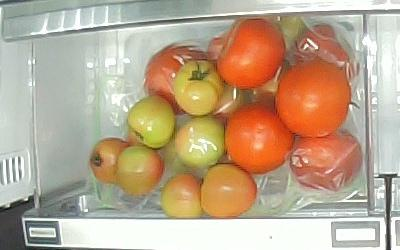tangerine_vinyl: (144, 42, 216, 115), (294, 23, 353, 79), (176, 116, 226, 167)
tomato: (276, 60, 351, 135), (226, 103, 296, 173), (217, 19, 285, 89), (201, 164, 257, 217), (175, 60, 224, 115), (129, 96, 175, 148), (118, 147, 164, 195), (88, 137, 130, 182), (161, 174, 202, 218)
tomato_vinyl: (290, 129, 364, 191)
